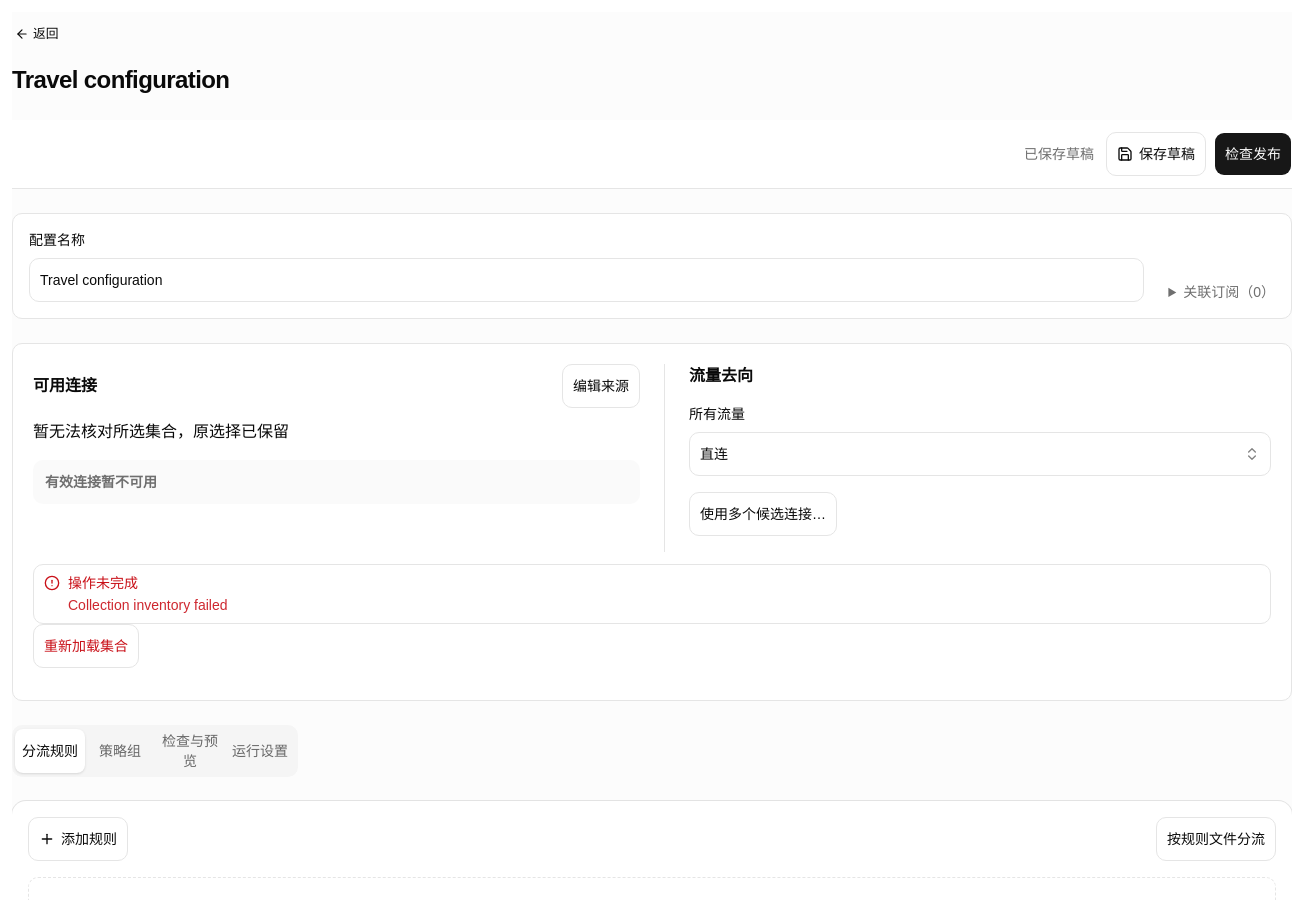
Test: shows a failed initial collection catalog without claiming an active check or losing selection
Expected: the text "暂无法核对所选集合，原选择已保留" is shown, [33, 423, 289, 440]
Expected: the button "重新加载集合" is shown, [33, 624, 139, 668]
Click the button "编辑来源" at [601, 386], box [562, 364, 640, 408]
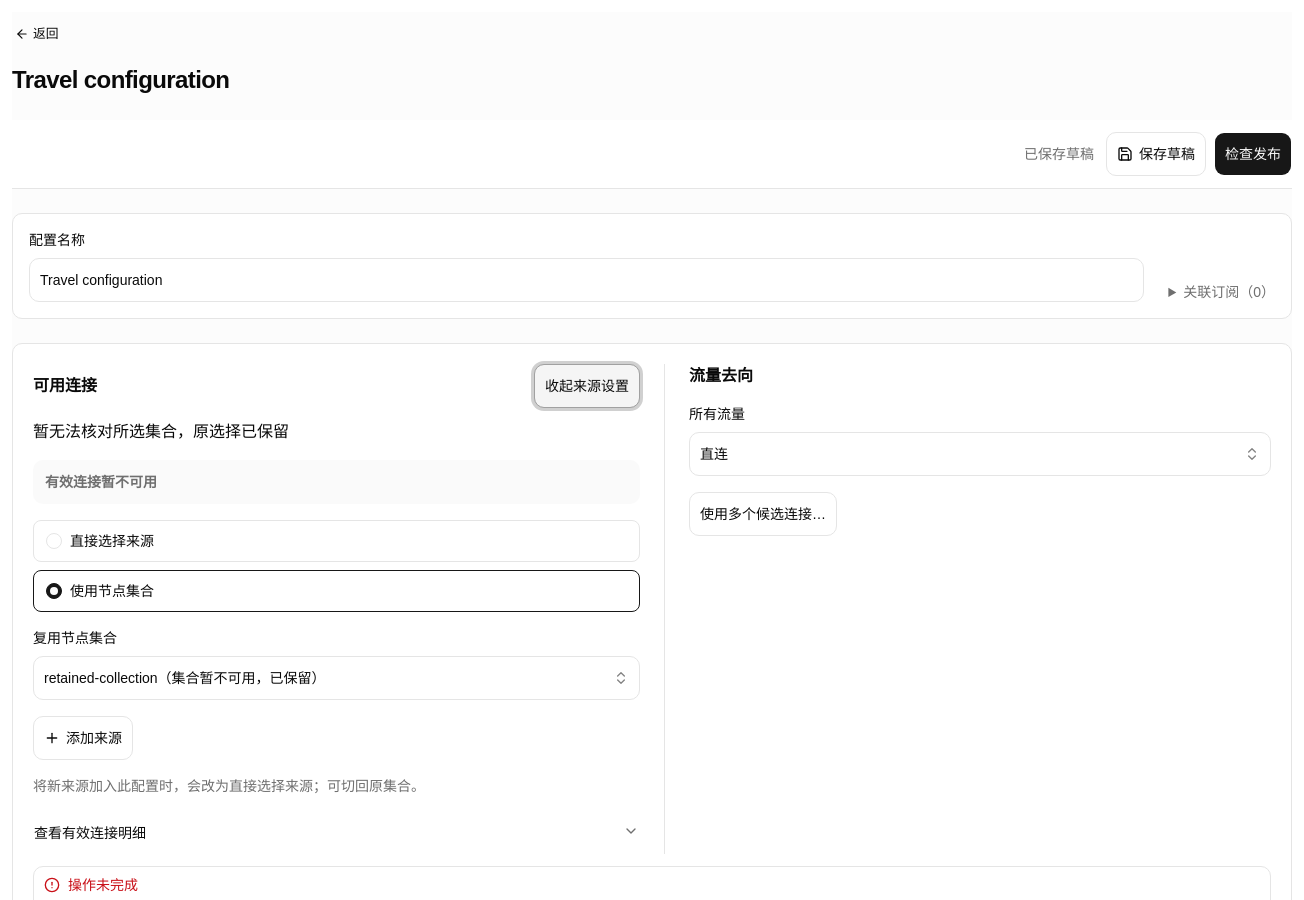
Now the label "复用节点集合" shows "retained-collection", box [33, 656, 640, 700]
